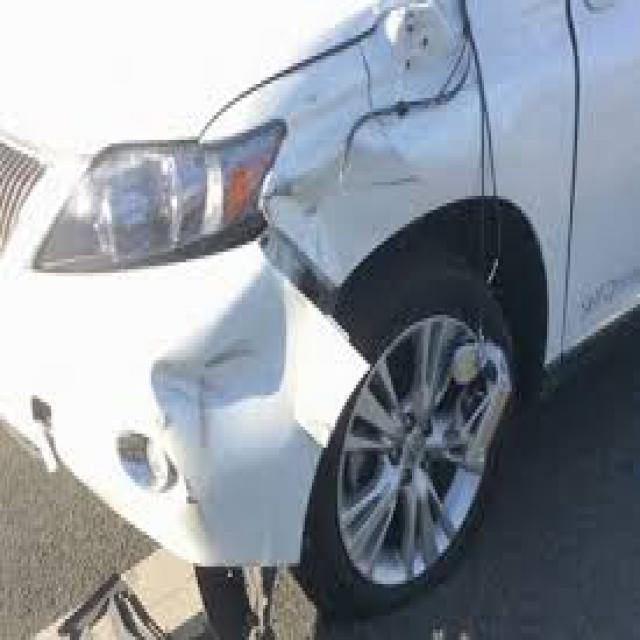minor: (156, 0, 433, 518)
